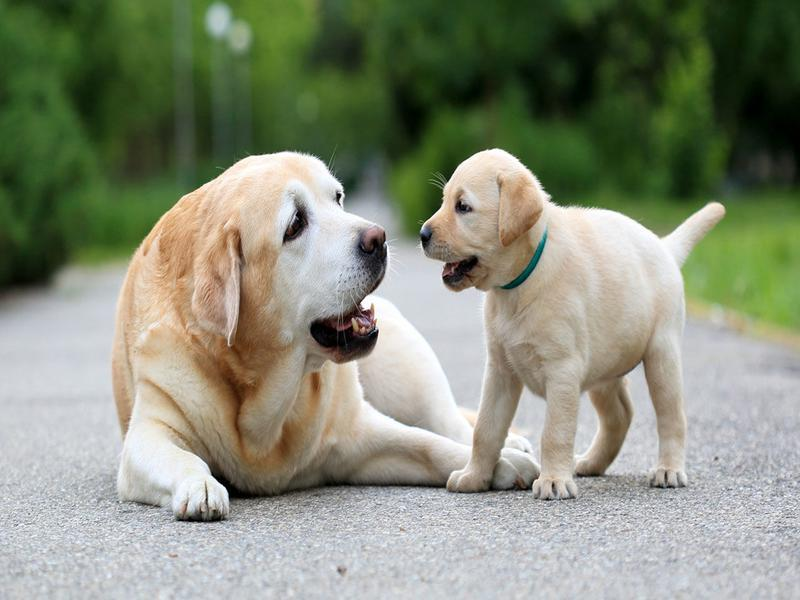dog: (109, 144, 422, 523), (419, 148, 728, 501)
